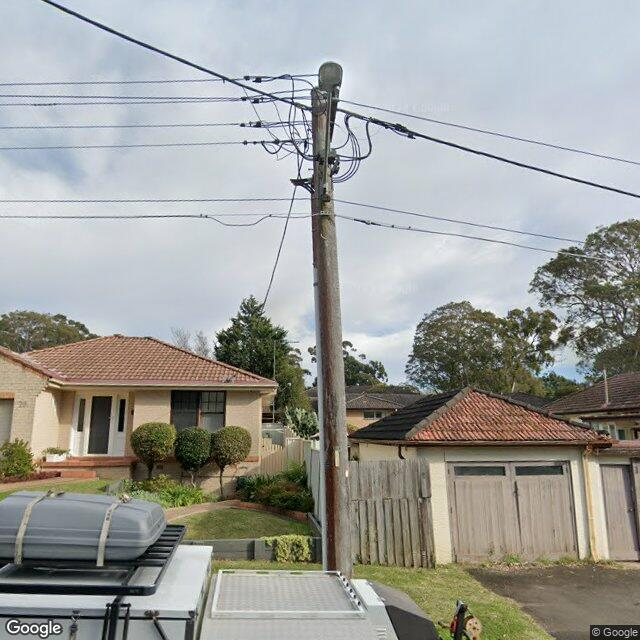crossarm: (329, 96, 340, 143)
streetlight: (317, 62, 343, 201)
timber-pole: (311, 86, 353, 580)
